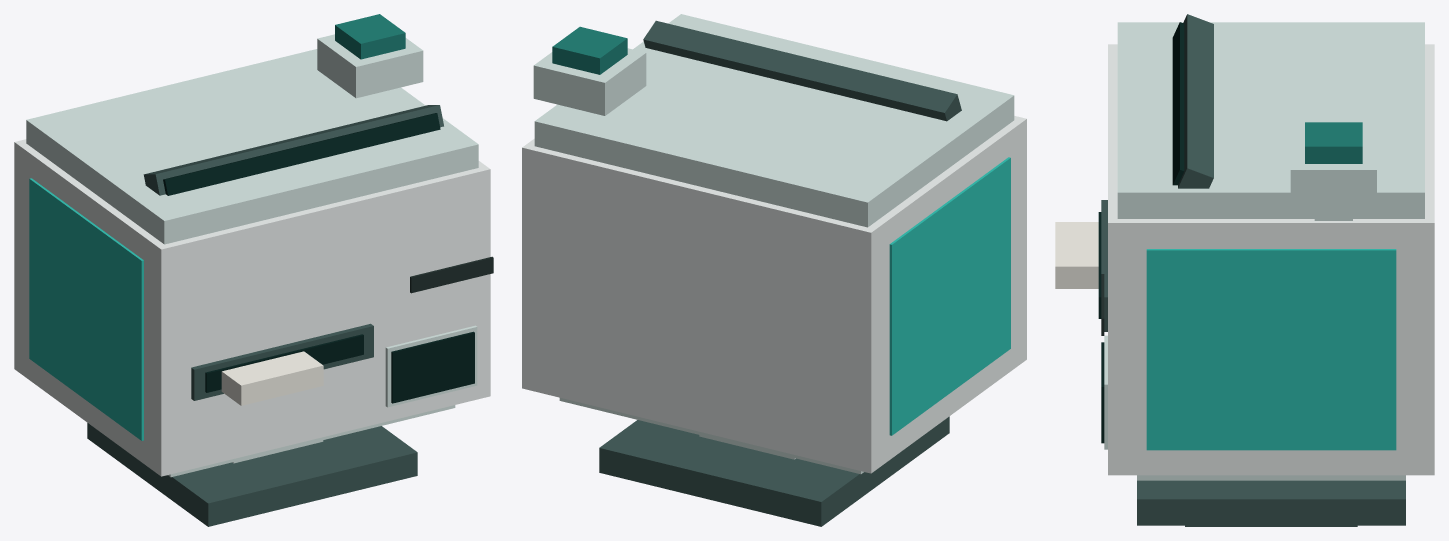
Rendered from hotel_reader.obj.
3 views of the same model, side by side, from view 1: azimuth 30°, elevation 25°; view 2: azimuth 150°, elevation 25°; view 3: azimuth 270°, elevation 25° (orthographic). The views are drawn at different scales.
Parts seen in each view (by area): view 1: hotel_reader_e03, hotel_reader_e05, hotel_reader_e17, hotel_reader_e01, hotel_reader_e07, hotel_reader_e12, hotel_reader_e13, hotel_reader_e10, hotel_reader_e06, hotel_reader_e08, hotel_reader_e14, hotel_reader_e09 (+3 smaller); view 2: hotel_reader_e03, hotel_reader_e05, hotel_reader_e17, hotel_reader_e01, hotel_reader_e06, hotel_reader_e13, hotel_reader_e14, hotel_reader_e04; view 3: hotel_reader_e18, hotel_reader_e05, hotel_reader_e03, hotel_reader_e01, hotel_reader_e06, hotel_reader_e13, hotel_reader_e10, hotel_reader_e14, hotel_reader_e07, hotel_reader_e04, hotel_reader_e08, hotel_reader_e15 (+1 smaller).
Part boxes in pixels (box(x1,y1,x2,y2)): hotel_reader_e03: box(14, 139, 490, 476); hotel_reader_e05: box(26, 49, 478, 244); hotel_reader_e17: box(29, 178, 143, 440); hotel_reader_e01: box(87, 423, 417, 526); hotel_reader_e07: box(163, 113, 440, 195); hotel_reader_e12: box(391, 331, 474, 403); hotel_reader_e13: box(317, 34, 423, 98); hotel_reader_e10: box(221, 351, 323, 405); hotel_reader_e06: box(143, 105, 443, 195); hotel_reader_e08: box(191, 323, 373, 400); hotel_reader_e14: box(335, 14, 405, 59); hotel_reader_e09: box(205, 334, 363, 392); hotel_reader_e03: box(522, 116, 1026, 473); hotel_reader_e05: box(534, 14, 1014, 227); hotel_reader_e17: box(889, 157, 1010, 435); hotel_reader_e01: box(599, 416, 949, 526); hotel_reader_e06: box(643, 20, 961, 121); hotel_reader_e13: box(533, 48, 646, 115); hotel_reader_e14: box(552, 26, 627, 74); hotel_reader_e04: box(559, 398, 863, 474); hotel_reader_e18: box(1146, 249, 1396, 450); hotel_reader_e05: box(1117, 22, 1424, 218); hotel_reader_e03: box(1108, 44, 1434, 475); hotel_reader_e01: box(1137, 480, 1405, 525); hotel_reader_e06: box(1178, 14, 1213, 188); hotel_reader_e13: box(1290, 133, 1376, 204); hotel_reader_e10: box(1055, 222, 1098, 288); hotel_reader_e14: box(1305, 122, 1362, 163); hotel_reader_e07: box(1172, 22, 1184, 185); hotel_reader_e04: box(1137, 475, 1405, 480); hotel_reader_e08: box(1101, 200, 1107, 331); hotel_reader_e15: box(1314, 205, 1352, 220).
Bounding box in the file's own units: 0.5788 × 0.625 × 0.4937.
